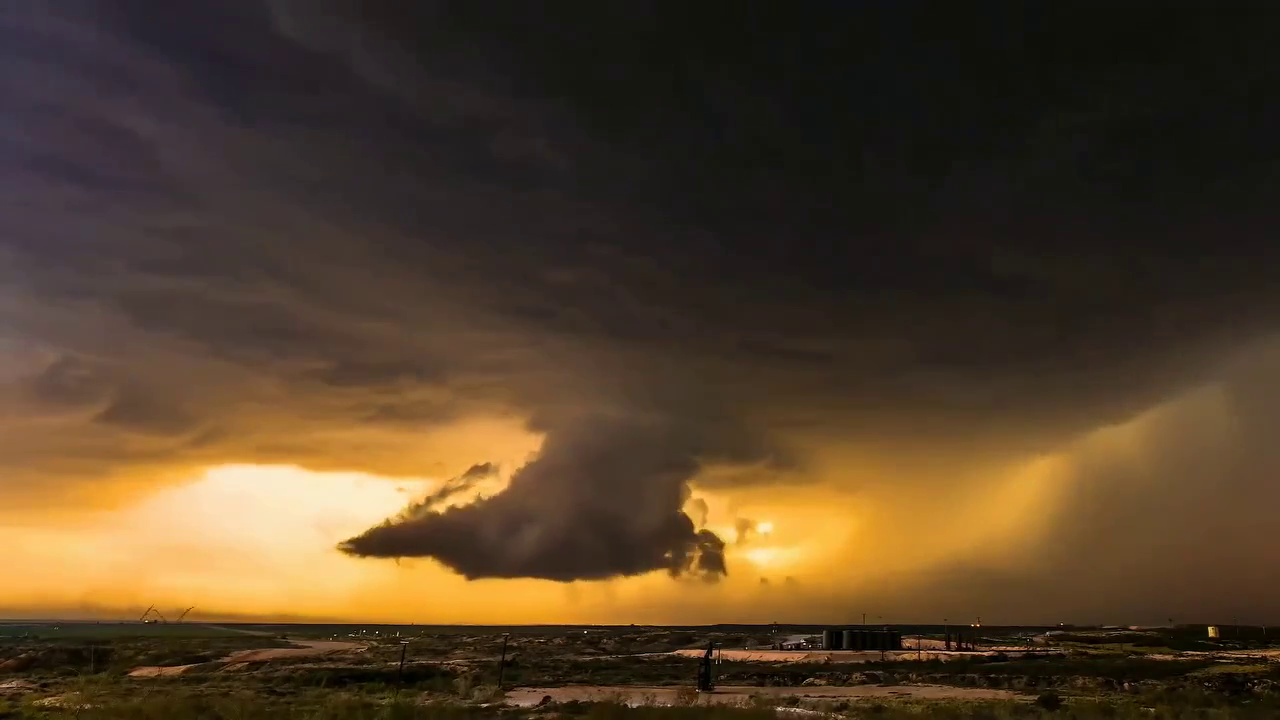RFD: (528, 385, 1280, 624)
mesocyclone: (136, 3, 1177, 451)
wall cloud: (336, 413, 816, 584)
